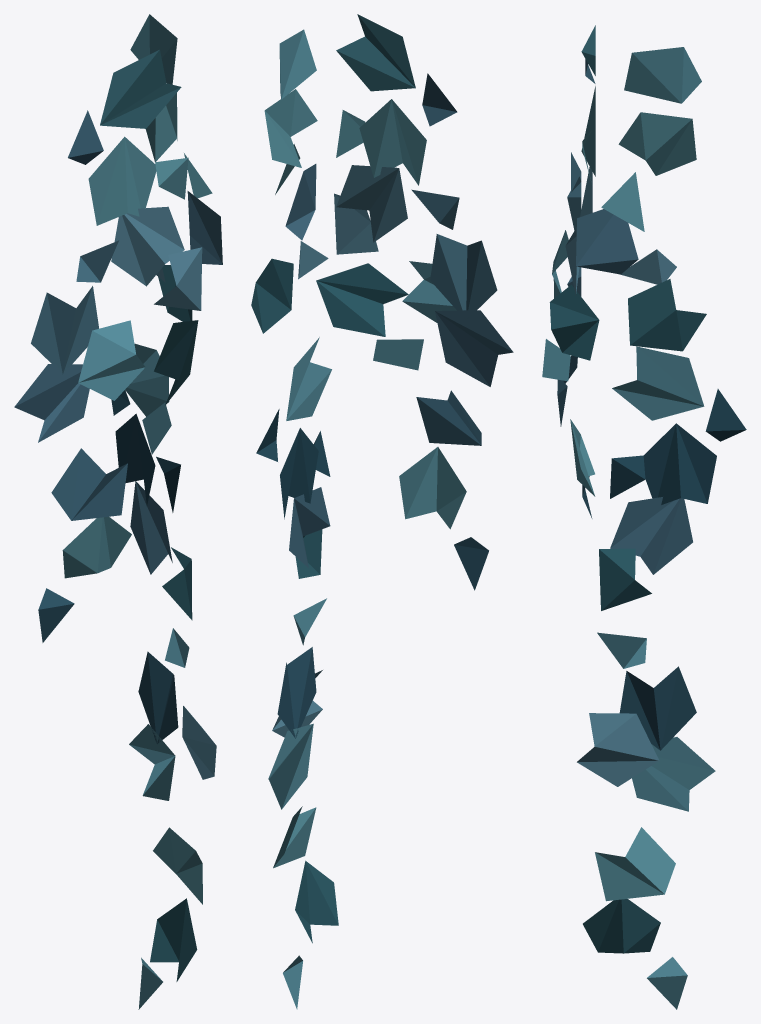
Rendered from SM_Env_Ivy_Corner_02.fbx.
The picture shows the model from 3 angles, left to right: view 1: azimuth 30°, elevation 25°; view 2: azimuth 150°, elevation 25°; view 3: azimuth 270°, elevation 25°; orthographic projection. The views are drawn at different scales.
Parts seen in each view (by area): view 1: SM_Env_Ivy_Corner_02; view 2: SM_Env_Ivy_Corner_02; view 3: SM_Env_Ivy_Corner_02.
Boxes of the visible parts, x1=… form: SM_Env_Ivy_Corner_02: x1=14, y1=14, x2=222, y2=1009; SM_Env_Ivy_Corner_02: x1=251, y1=14, x2=513, y2=1009; SM_Env_Ivy_Corner_02: x1=542, y1=25, x2=746, y2=1009.
Bounding box in the file's own units: 0.9587 × 4.22 × 0.8019.
1 material, 1 textured.
